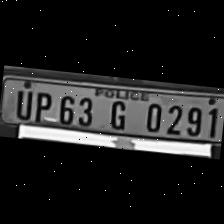0: (138, 97, 164, 132)
1: (202, 102, 223, 139)
2: (161, 98, 185, 136)
3: (72, 91, 96, 127)
6: (54, 89, 77, 125)
9: (182, 100, 204, 136)
G: (103, 94, 131, 130)
P: (28, 86, 55, 124)
U: (8, 84, 36, 121)
